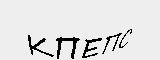Е: (79, 37, 100, 60)
К: (27, 31, 54, 60)
П: (55, 34, 79, 60), (102, 29, 122, 55)
С: (117, 27, 134, 51)
